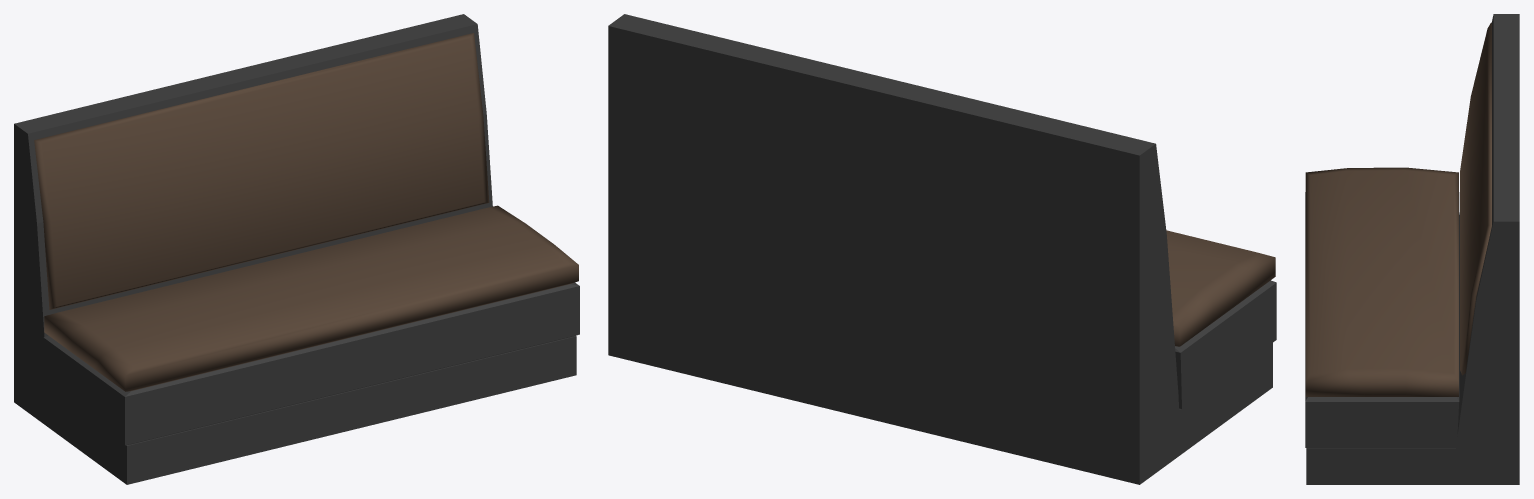
File: sofa.glb
3 renders of one model, left to right at view 1: azimuth 30°, elevation 25°; view 2: azimuth 150°, elevation 25°; view 3: azimuth 270°, elevation 25°, orthographic. The views are drawn at different scales.
Parts seen in each view (by area): view 1: cafe_sofa; view 2: cafe_sofa; view 3: cafe_sofa.
Boxes of the visible parts, x1=… form: cafe_sofa: x1=14, y1=14, x2=579, y2=484; cafe_sofa: x1=608, y1=14, x2=1276, y2=484; cafe_sofa: x1=1305, y1=14, x2=1519, y2=484.
Size of the model in its own units: 1.93 by 1.13 by 0.8341.
